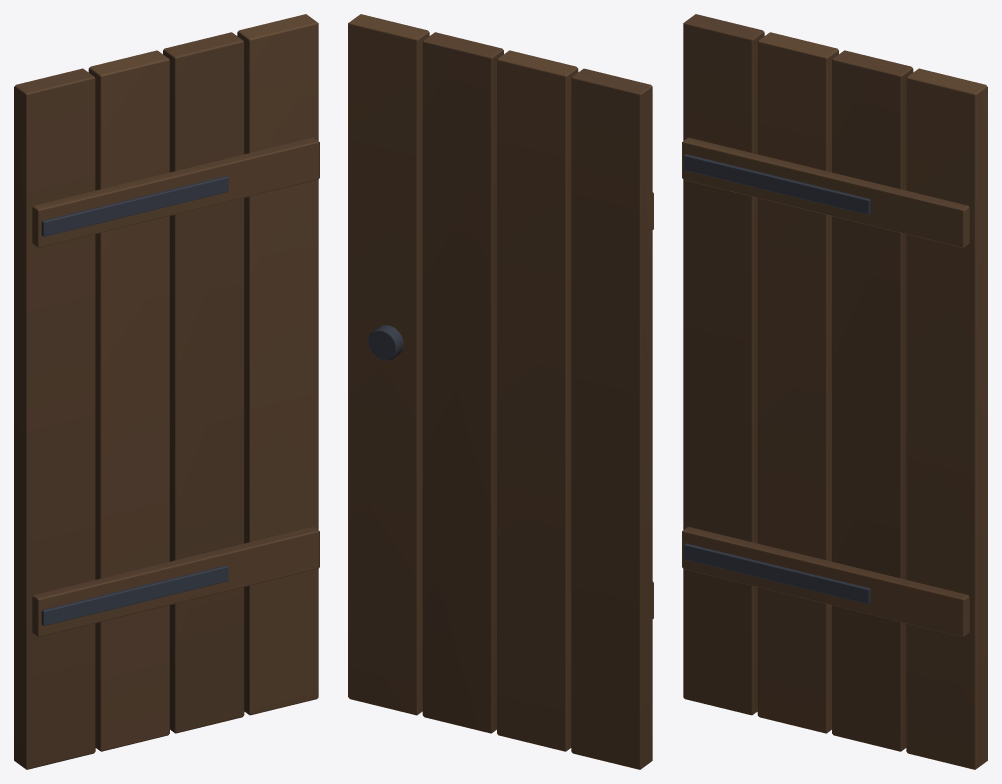
The model's file is oak-door.glb.
3 views of the same model, side by side, from view 1: azimuth 30°, elevation 25°; view 2: azimuth 150°, elevation 25°; view 3: azimuth 330°, elevation 25° (orthographic).
Visible parts, largest first — view 1: body; view 2: body; view 3: body.
Part boxes in pixels (left/top/right/bottom): body: left=14, top=14, right=319, bottom=769; body: left=348, top=14, right=653, bottom=769; body: left=682, top=14, right=987, bottom=769.
Size of what is drawn, in the model's own units: 0.79 by 1.74 by 0.134.
